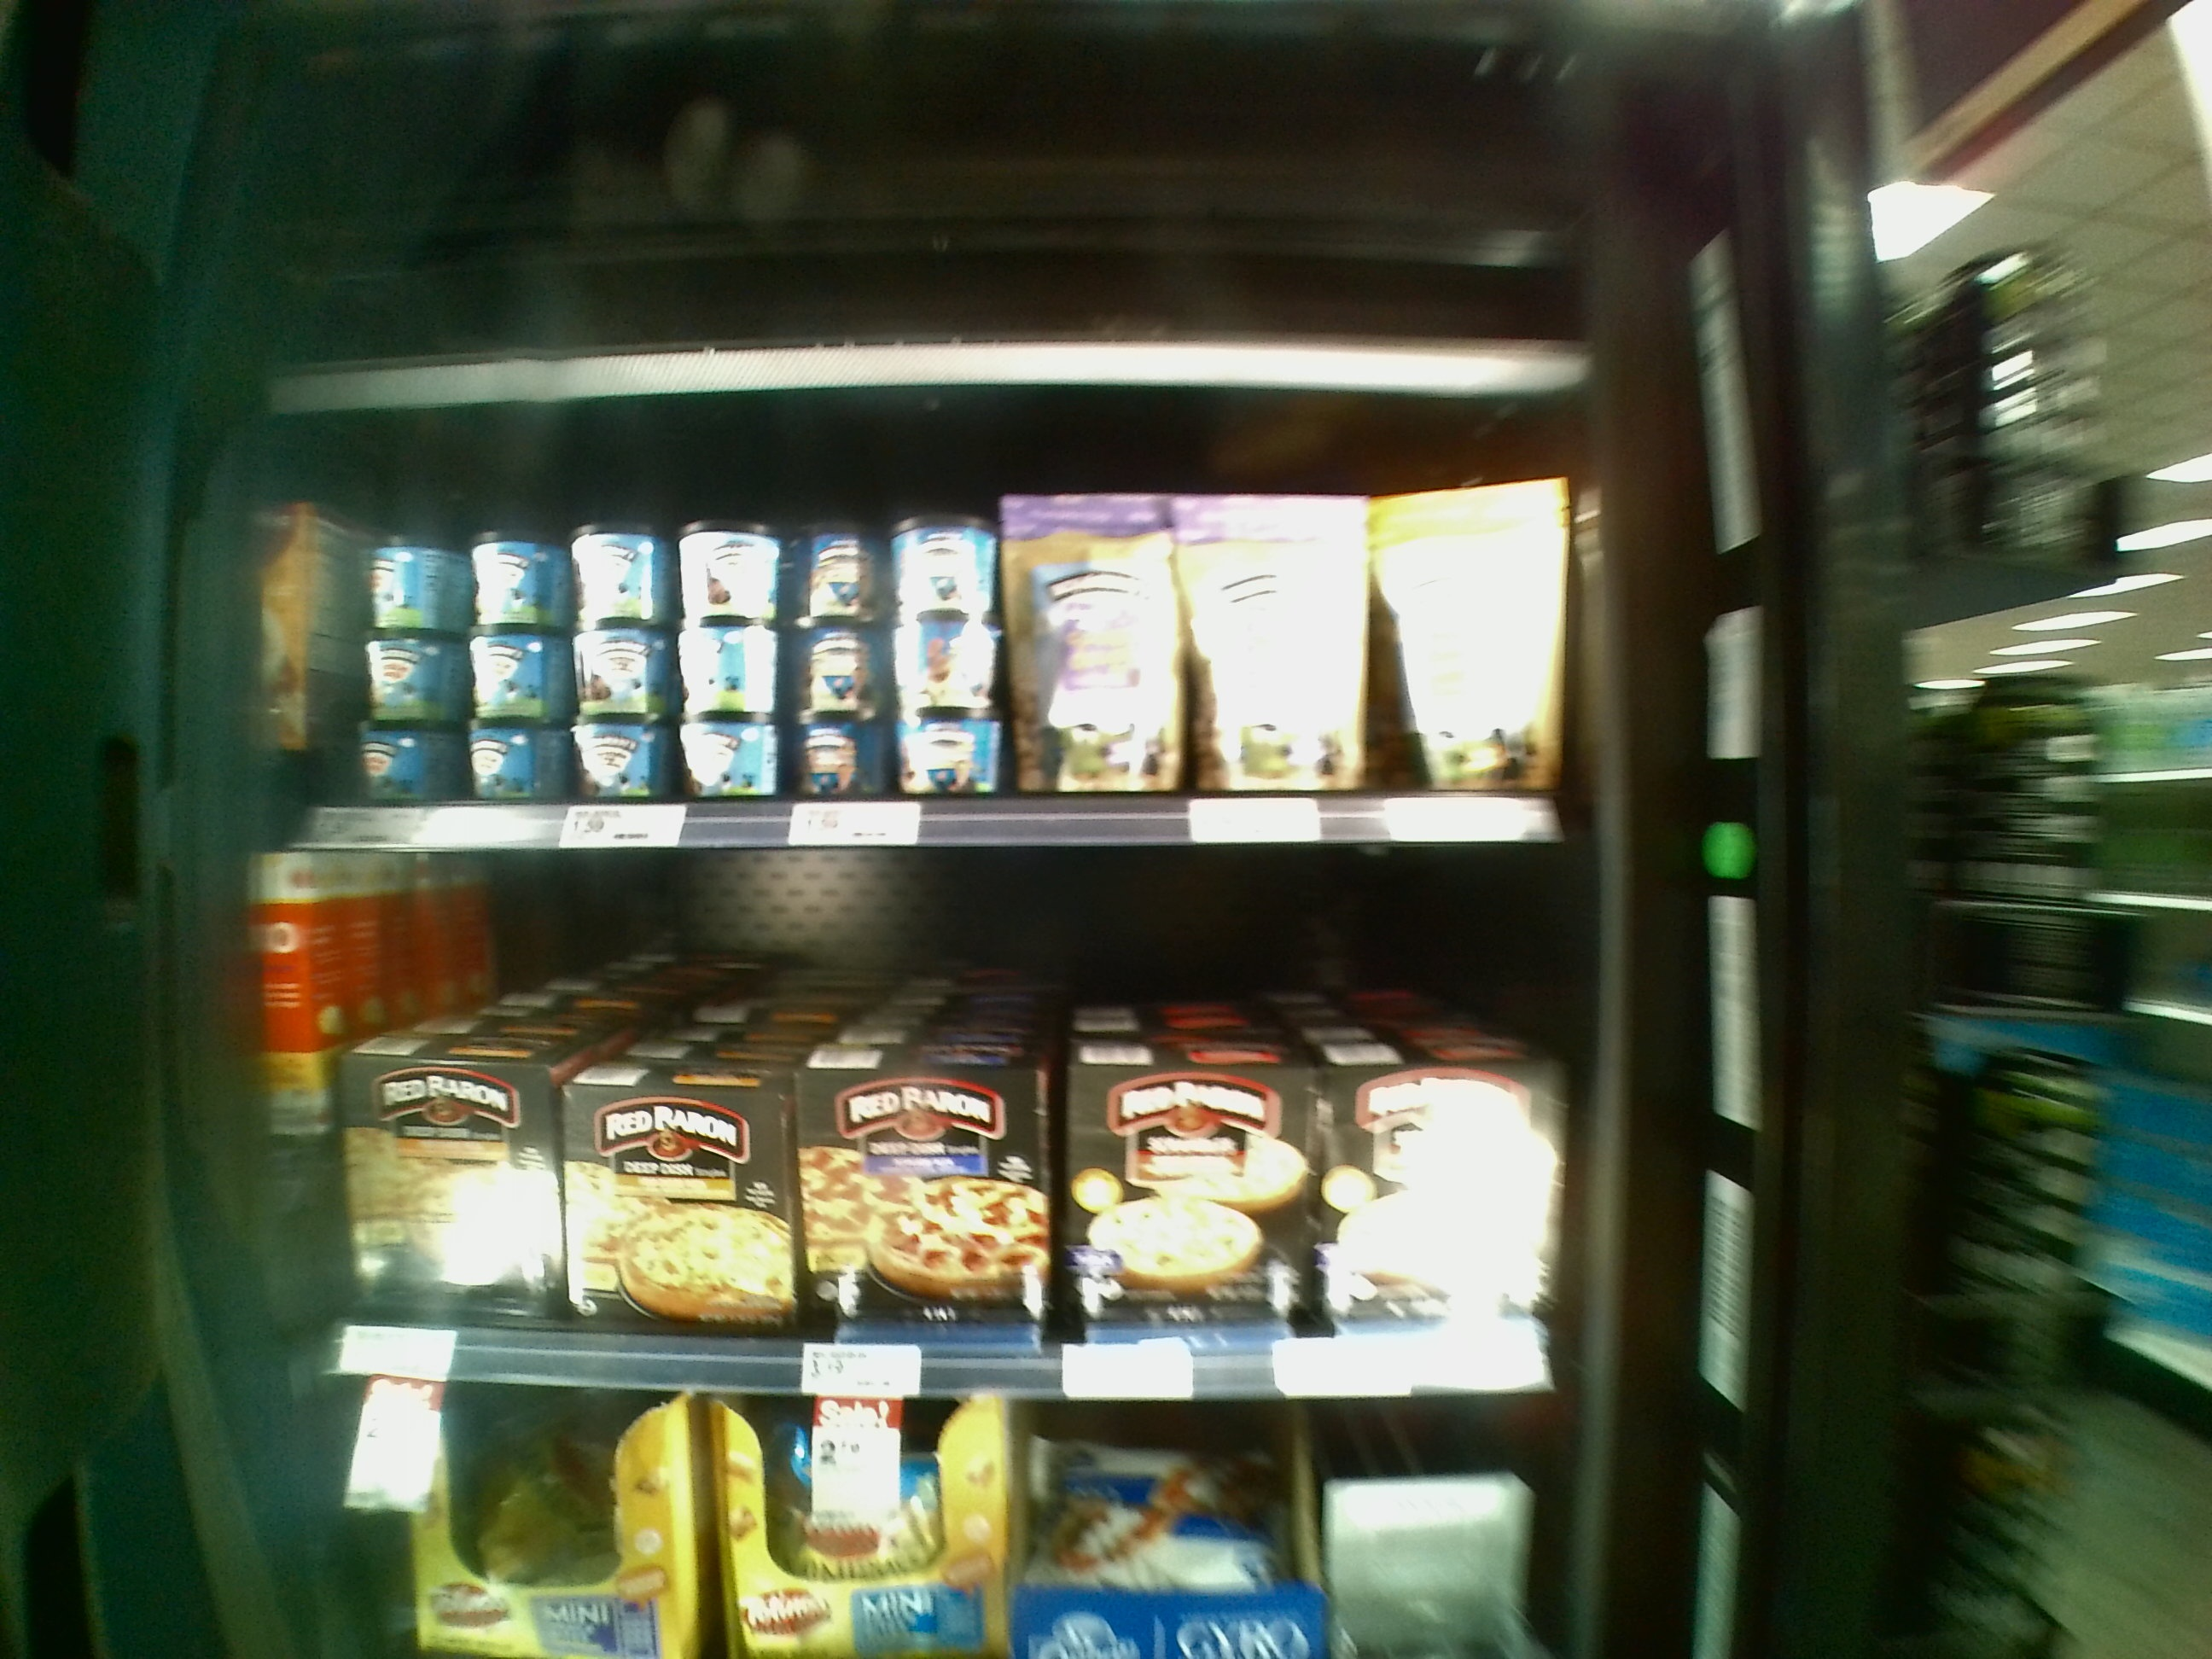shelf: (319, 849, 1557, 1392), (298, 396, 1561, 847)
